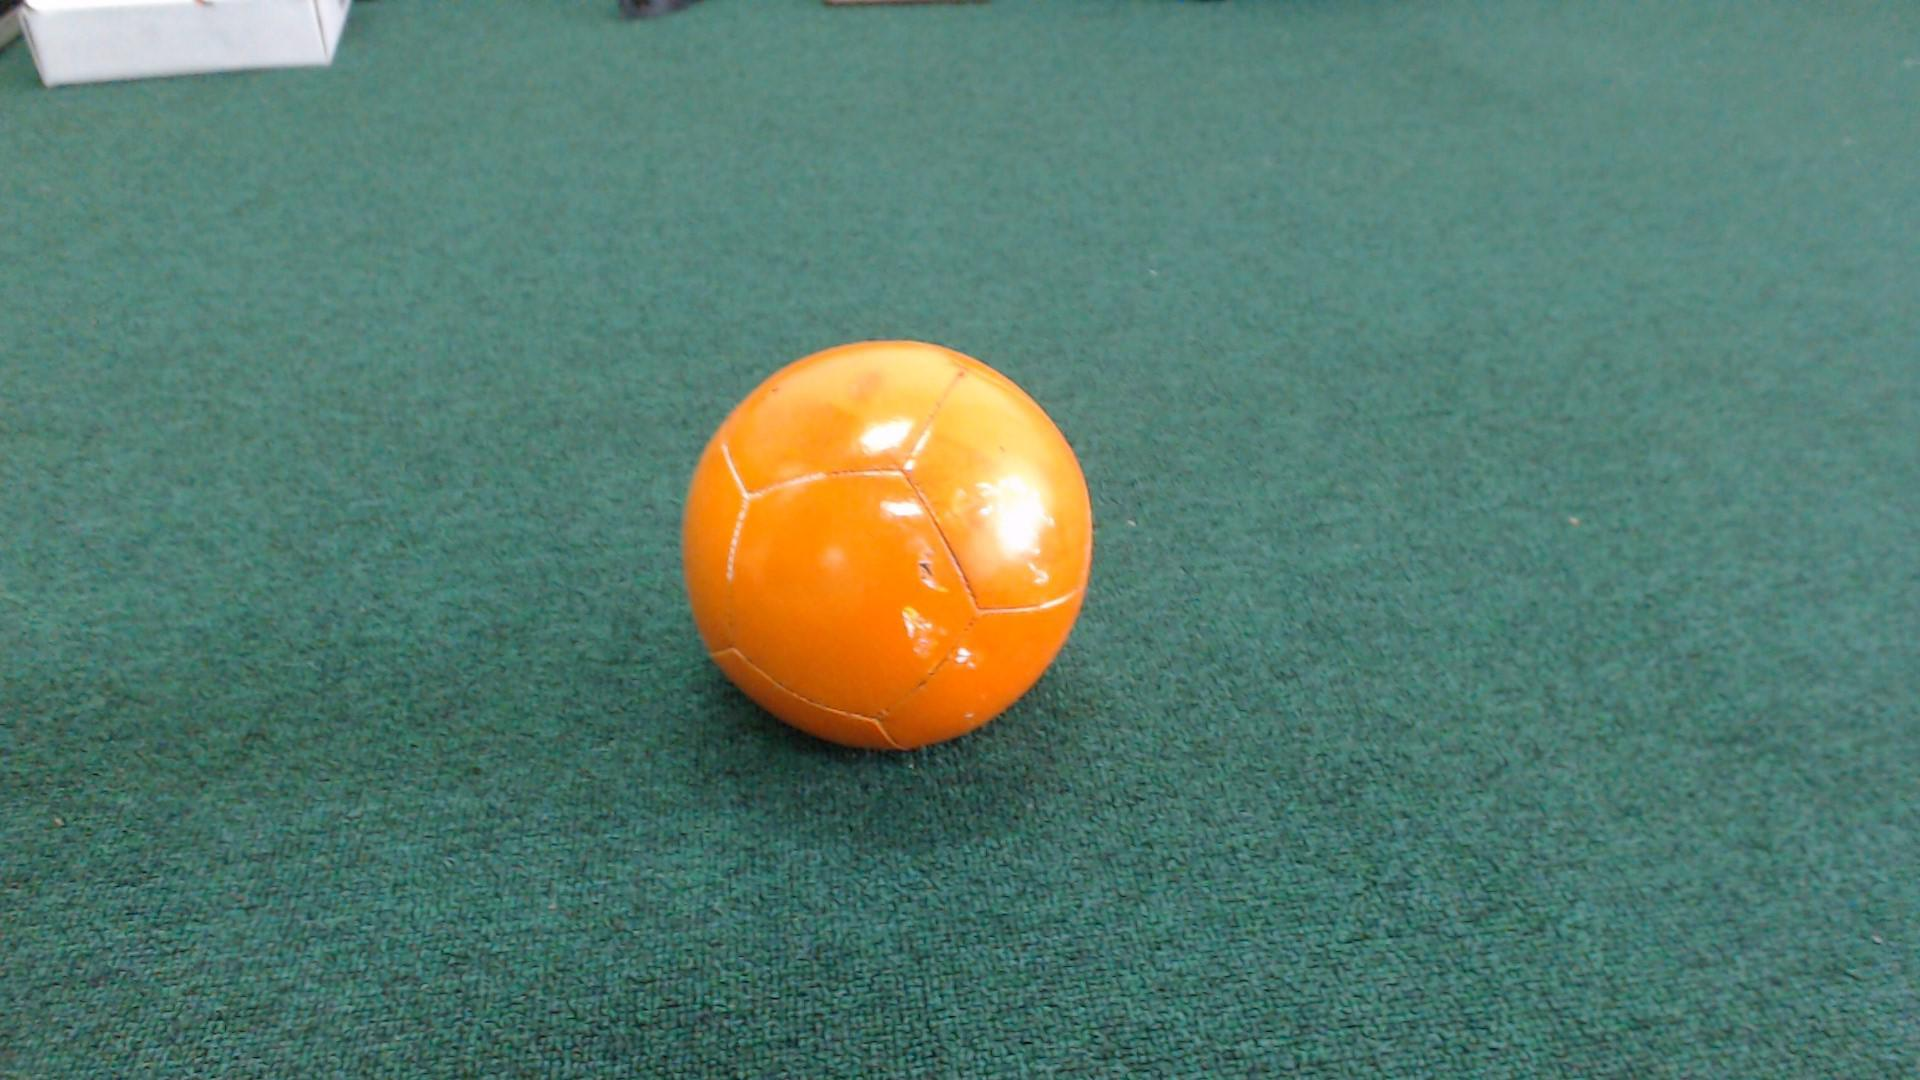bola: (634, 315, 1117, 782)
